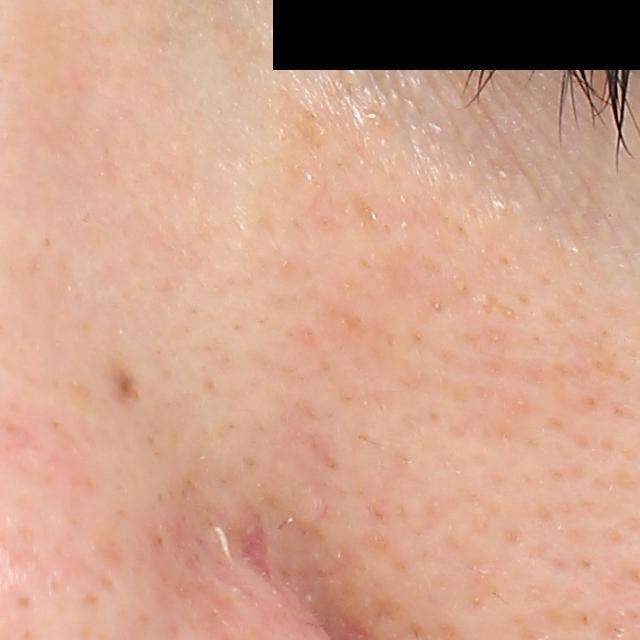atrophic_scar: (238, 510, 278, 593)
nevus: (114, 364, 145, 409)
